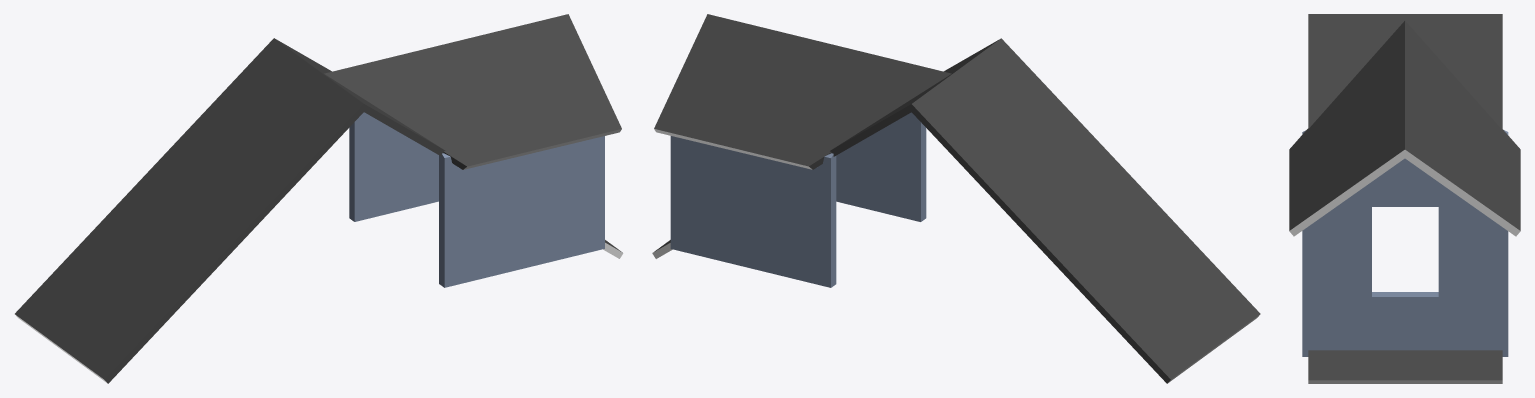
Rendered from Roof2_C3_06.fbx.
3 renders of one model, left to right at view 1: azimuth 30°, elevation 25°; view 2: azimuth 150°, elevation 25°; view 3: azimuth 270°, elevation 25°, orthographic. The views are drawn at different scales.
Visible parts, largest first — view 1: Roof2_C3_06; view 2: Roof2_C3_06; view 3: Roof2_C3_06.
Boxes of the visible parts, x1,y1,x2,y2 form: Roof2_C3_06: (15,14,623,383); Roof2_C3_06: (652,14,1260,383); Roof2_C3_06: (1289,14,1520,383).
Size of the model in its own units: 833 by 334 by 298.
